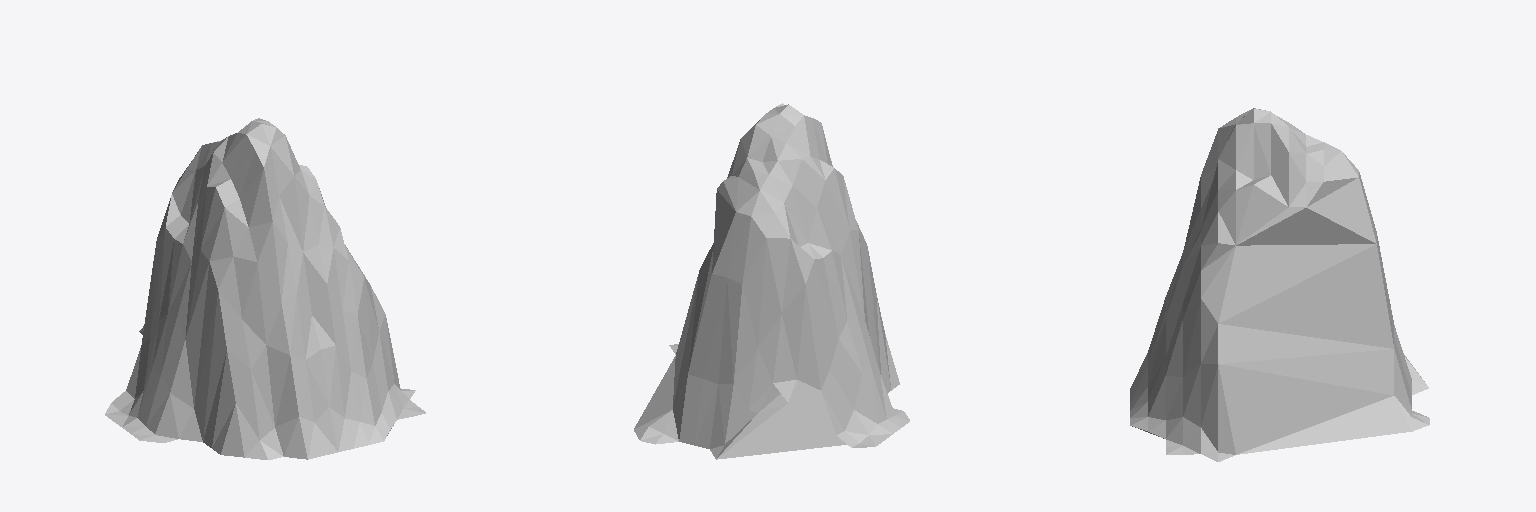
File: tree_41.obj
3 views of the same model, side by side, from view 1: azimuth 30°, elevation 25°; view 2: azimuth 150°, elevation 25°; view 3: azimuth 270°, elevation 25° (orthographic).
Parts seen in each view (by area): view 1: tree_41_minus_dtm; view 2: tree_41_minus_dtm; view 3: tree_41_minus_dtm.
Part boxes in pixels (bbox=[...]): tree_41_minus_dtm: bbox=[105, 118, 425, 459]; tree_41_minus_dtm: bbox=[634, 103, 909, 459]; tree_41_minus_dtm: bbox=[1130, 108, 1429, 461].
Bounding box in the file's own units: 17 × 18.04 × 17.